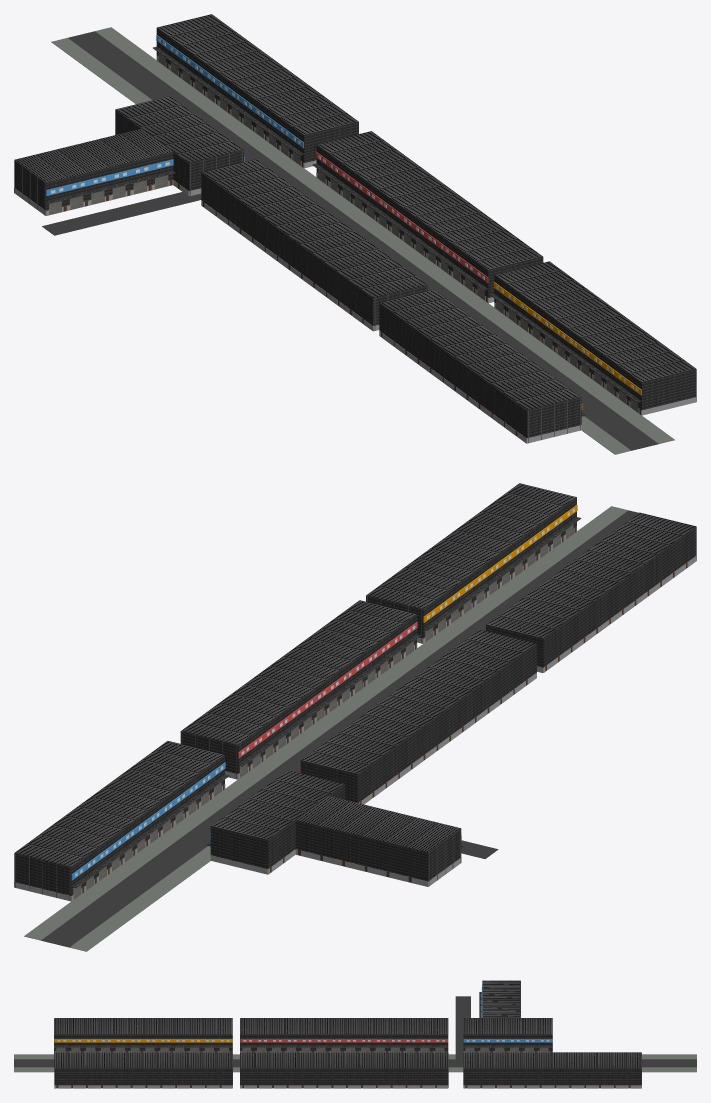
Rendered from park.glb.
The picture shows the model from 3 angles, top to bottom: view 1: azimuth 30°, elevation 25°; view 2: azimuth 150°, elevation 25°; view 3: azimuth 270°, elevation 25°; orthographic projection. The views are drawn at different scales.
Parts seen in each view (by area): view 1: 右側_6米退縮, 10米主幹道, 左側_6米退縮, C3前_8米道路, A2-01_浪板, A1-01_浪板, C3-06_浪板, C2-01_浪板, C1-01_浪板, B2-01_浪板, B1-01_屋頂, A2-01_屋頂 (+75 smaller); view 2: 右側_6米退縮, 10米主幹道, 左側_6米退縮, C2-06_浪板, C1-12_浪板, C3-06_浪板, B2-14_浪板, B1-14_浪板, A2-12_浪板, A2-12_屋頂, A1-12_屋頂, A1-12_浪板 (+74 smaller); view 3: 10米主幹道, C3前_8米道路, 右側_6米退縮, 左側_6米退縮, C1-01_浪板, A1-01_浪板, A1-02_浪板, A1-06_浪板, A1-08_浪板, A1-12_浪板, B1-05_浪板, B1-07_浪板 (+107 smaller).
Part boxes in pixels (x1,y1,x2,y2): 右側_6米退縮: (95,27,674,443); 10米主幹道: (68,31,658,450); 左側_6米退縮: (51,38,631,454); C3前_8米道路: (42,168,293,235); A2-01_浪板: (514,397,581,438); A1-01_浪板: (629,369,696,410); C3-06_浪板: (14,160,67,210); C2-01_浪板: (176,150,243,191); C1-01_浪板: (291,122,358,162); B2-01_浪板: (361,285,428,325); B1-01_屋頂: (476,247,542,269); A2-01_屋頂: (514,388,581,410); 右側_6米退縮: (24,506,627,940); 10米主幹道: (41,510,638,947); 左側_6米退縮: (70,846,210,951); C2-06_浪板: (210,826,280,868); C1-12_浪板: (14,853,84,895); C3-06_浪板: (406,828,461,881); B2-14_浪板: (300,760,370,802); B1-14_浪板: (180,731,250,773); A2-12_浪板: (486,624,556,667); A2-12_屋頂: (486,615,555,638); A1-12_屋頂: (366,586,435,609); A1-12_浪板: (366,595,436,638); 10米主幹道: (14,1059,696,1067); C3前_8米道路: (455,996,470,1067); 右側_6米退縮: (14,1067,696,1072); 左側_6米退縮: (14,1054,696,1059); C1-01_浪板: (463,1052,478,1085); A1-01_浪板: (54,1068,69,1085); A1-02_浪板: (69,1068,84,1085); A1-06_浪板: (128,1068,143,1085); A1-08_浪板: (158,1068,173,1085); A1-12_浪板: (217,1068,232,1085); B1-05_浪板: (299,1068,314,1085); B1-07_浪板: (329,1068,344,1085).
Size of the model in its own units: 114 by 11.65 by 356.
Materials: 11 (2 with a texture image).
